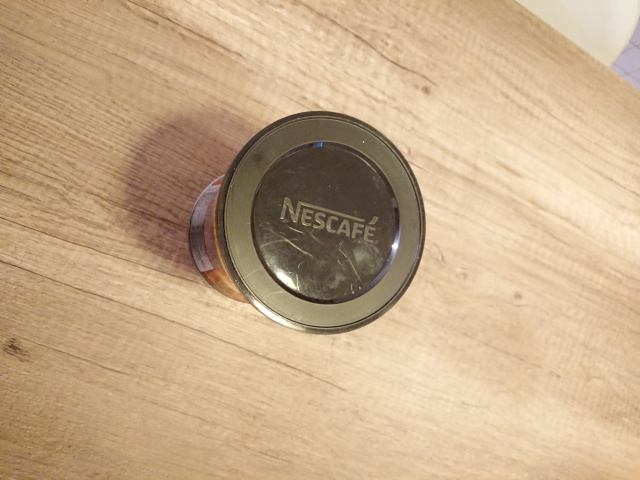Nescafe Classic 225g: (184, 107, 432, 340)
